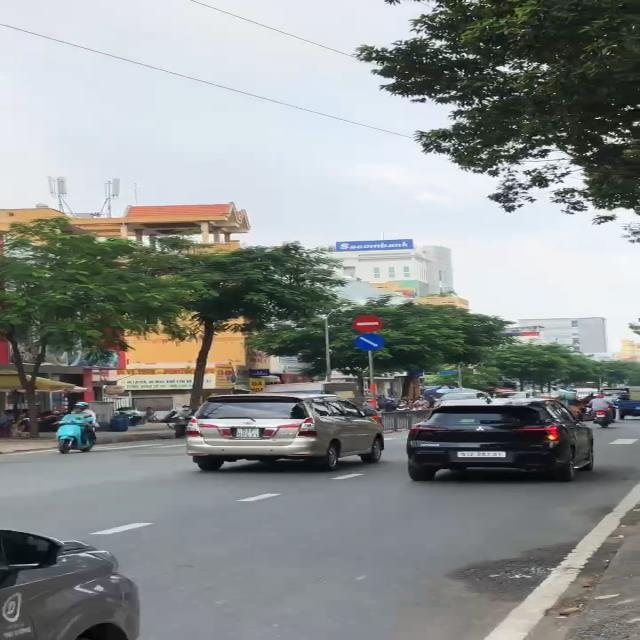Bien bao cam di nguoc chieu: (349, 314, 384, 332)
Bien bao huong phai di vong chuong ngai vat: (349, 333, 390, 352)
